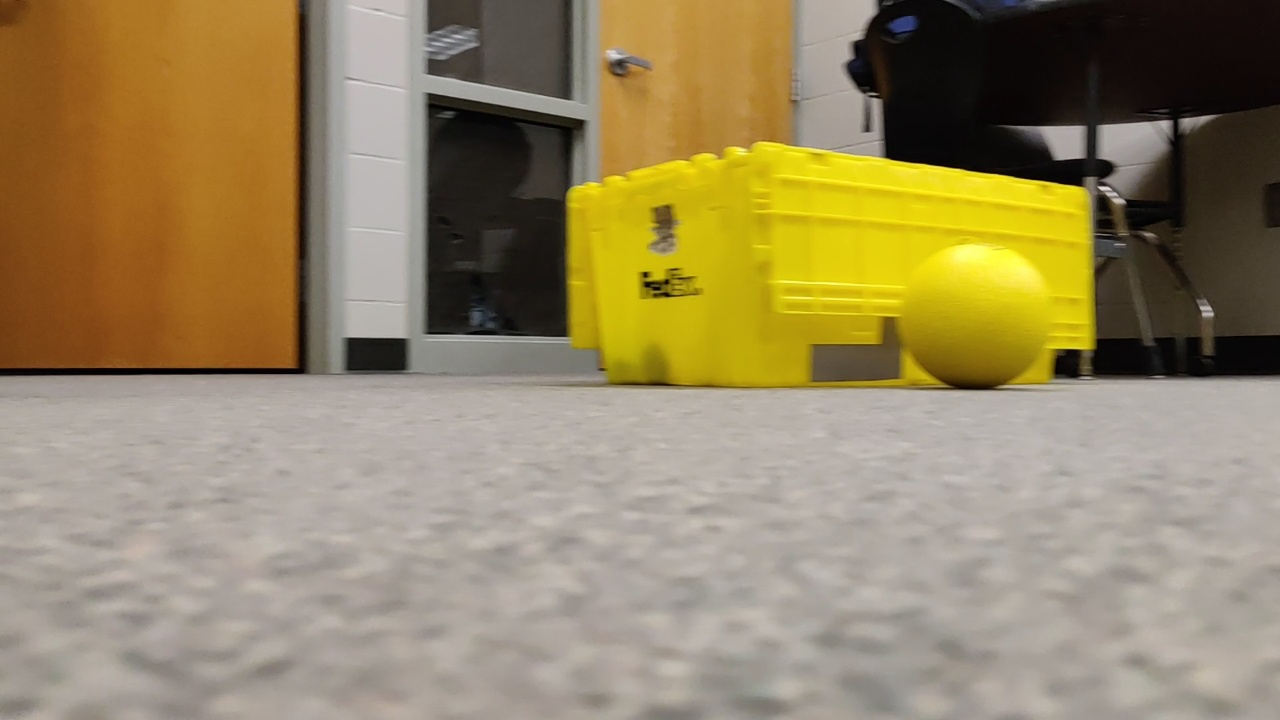Ball: (897, 240, 1053, 389)
